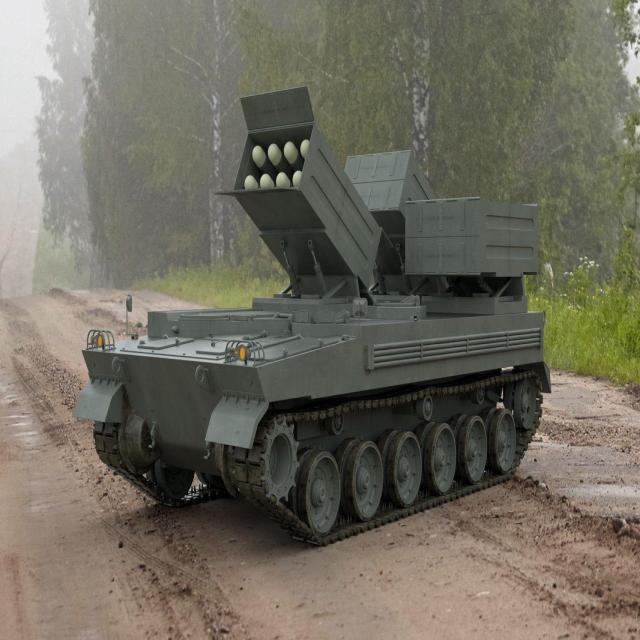Tanks: (81, 87, 553, 539)
